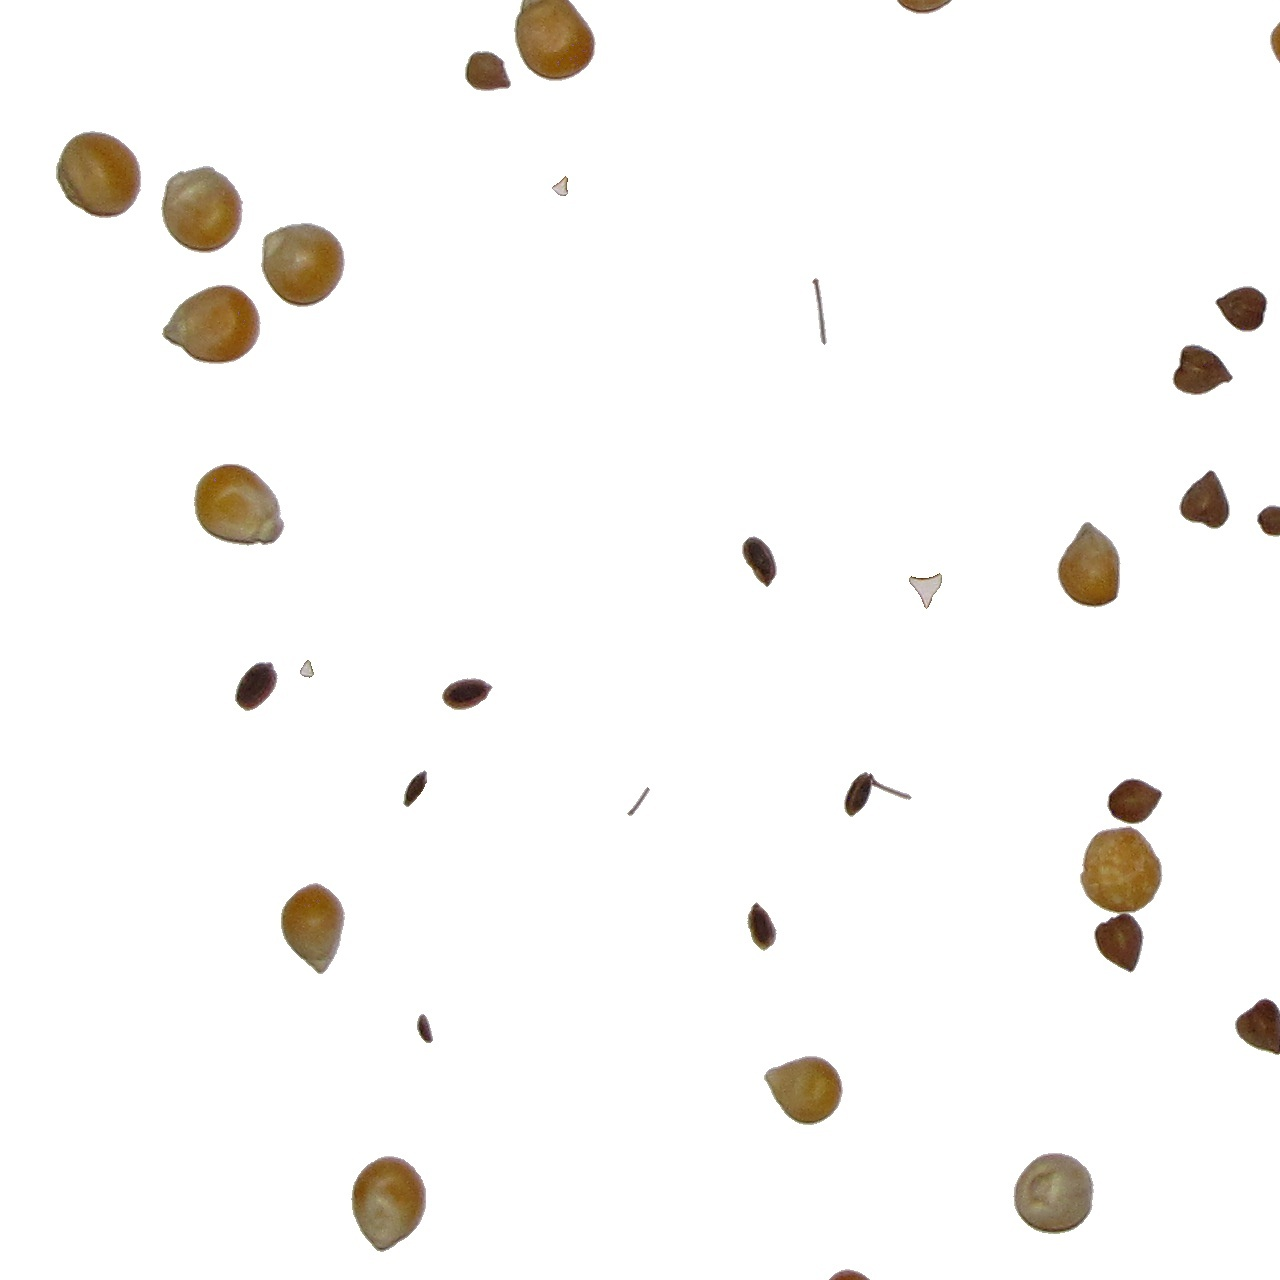buckwheat: (1092, 911, 1145, 974), (1171, 343, 1234, 396), (1178, 469, 1231, 530), (1107, 777, 1164, 825), (1234, 994, 1280, 1053), (1214, 285, 1269, 333), (234, 661, 279, 712), (741, 535, 778, 588), (441, 678, 493, 712), (745, 904, 778, 955), (406, 771, 433, 821), (908, 572, 942, 610), (811, 277, 828, 346), (626, 787, 651, 817), (551, 175, 568, 197), (299, 659, 315, 679)
dill: (843, 771, 913, 818)
mais: (161, 284, 263, 365), (193, 463, 286, 547), (55, 130, 142, 219), (1080, 825, 1164, 915), (159, 165, 244, 254), (350, 1155, 427, 1253), (260, 222, 346, 308), (1012, 1152, 1095, 1235), (280, 881, 346, 975), (1056, 520, 1122, 610), (763, 1055, 844, 1126), (1269, 4, 1280, 89), (816, 1268, 883, 1280)
other: (464, 50, 512, 91), (1251, 504, 1280, 542), (416, 1013, 434, 1044)
